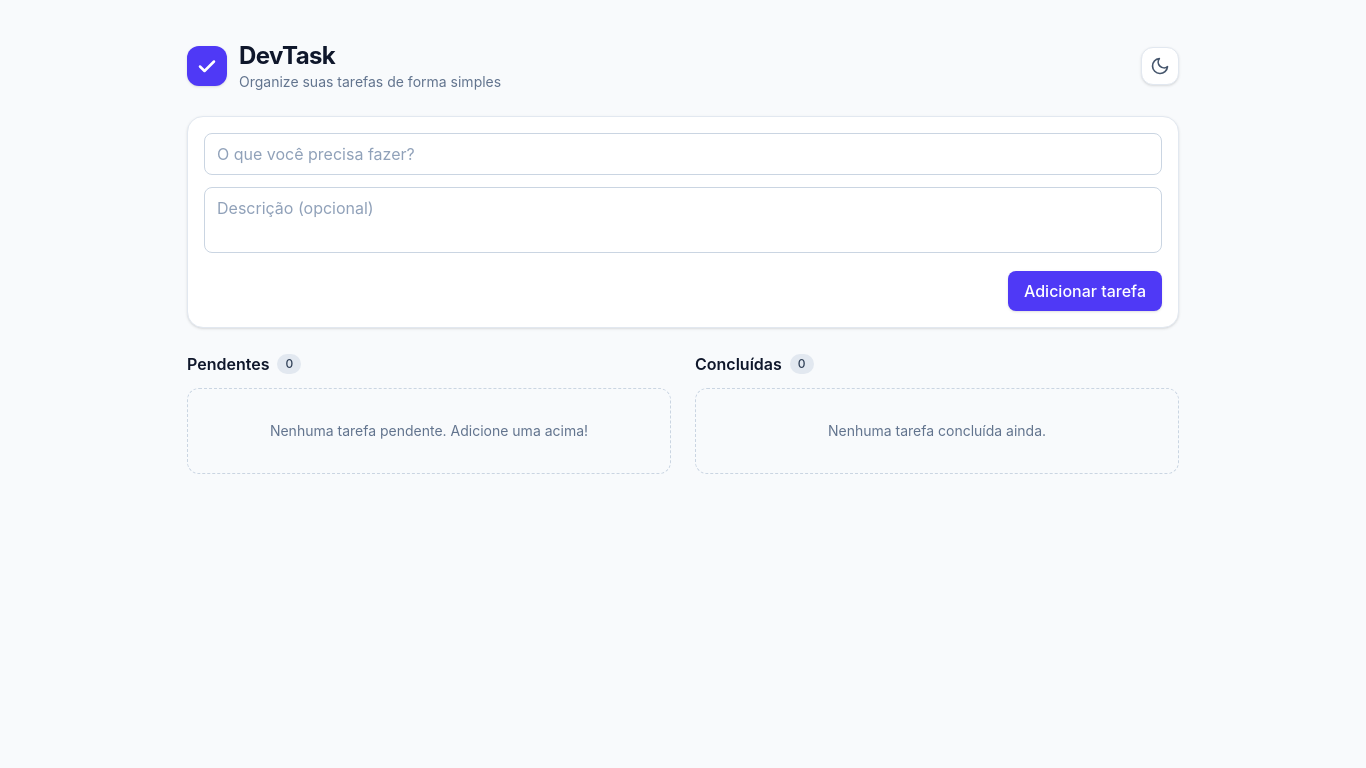
Test: App › alterna o tema e salva a preferência
Click the button named "Ativar tema escuro" at point(1160, 66), box [1141,47,1179,85]
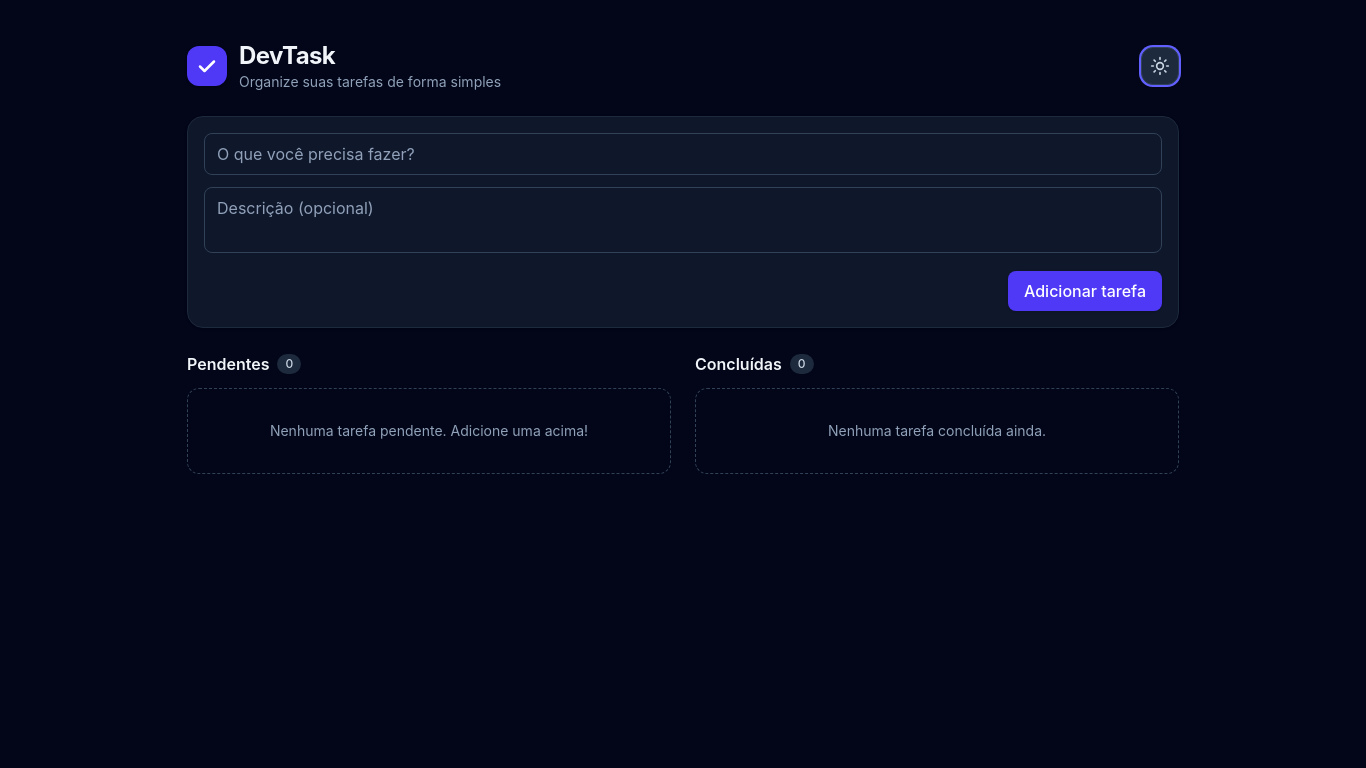
Expected: the button named "Ativar tema claro" is shown, [1141,47,1179,85]
